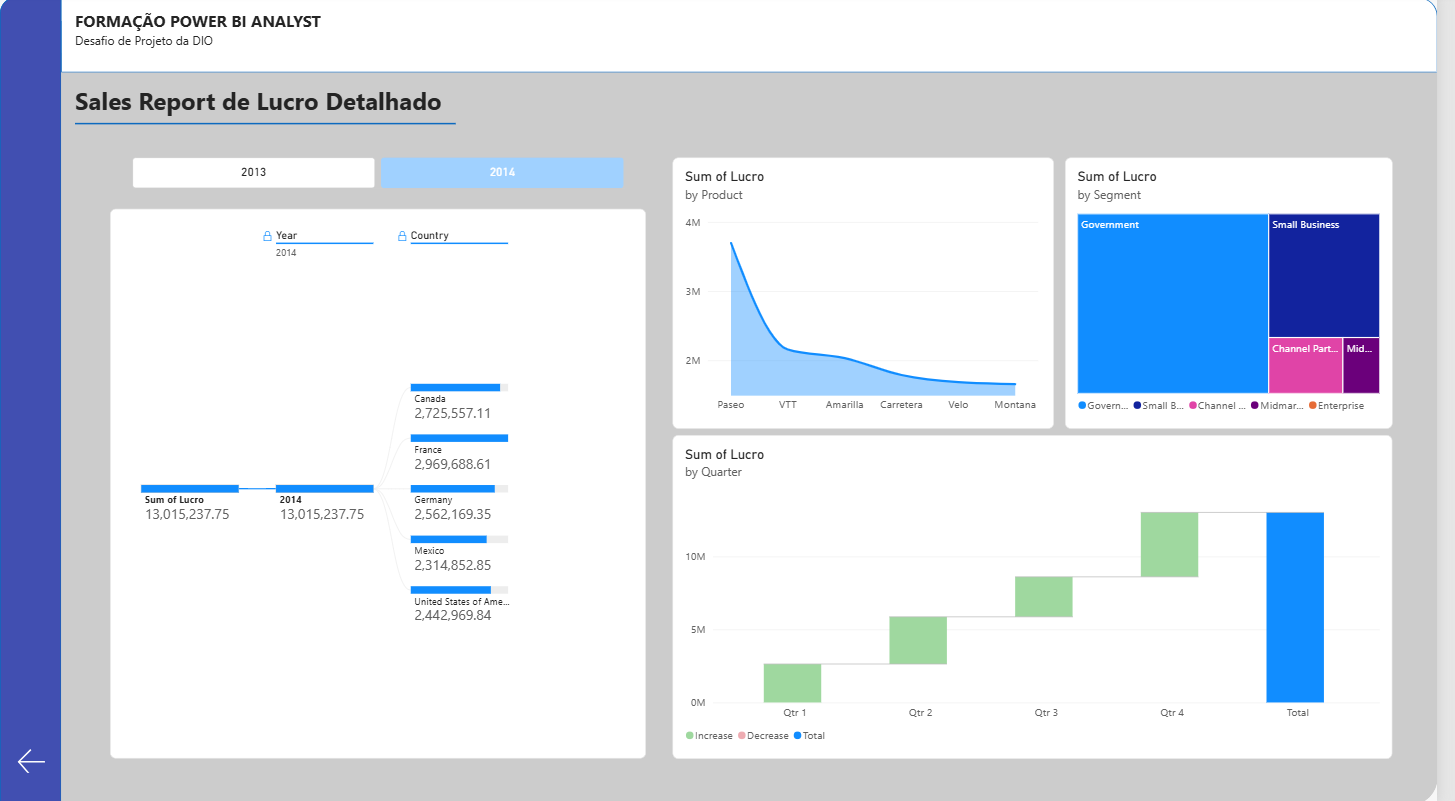

The dashboard page shown, as its layout file describes it:
{"tool":"powerbi","page":{"name":"Page 2","canvas":[1920,1080],"ordinal":1},"visuals":[{"type":"shape","box":[0,76.8,1920.2,1005.2],"z":0},{"type":"shape","box":[0,3.3,81.8,1077],"z":1000},{"type":"shape","box":[81.8,3.3,1838.4,100.2],"z":2000},{"type":"textbox","box":[100.2,20,347.3,68.5],"z":3000},{"type":"shape","box":[100.9,156.3,508.6,29.7],"z":4000},{"type":"textbox","box":[100.9,118.7,508.6,49.5],"z":5000},{"type":"actionButton","box":[2,993.5,81.1,53.4],"z":6000},{"type":"waterfallChart","fields":{"Category":["financials.Date.Variation.Date Hierarchy.Quarter"],"Y":["Sum(financials.Lucro)"]},"box":[898.3,587.8,961.8,432.5],"z":7000},{"type":"areaChart","fields":{"Category":["financials.Product"],"Y":["Sum(financials.Lucro)"]},"box":[898.3,217.1,509.3,362.3],"z":8000},{"type":"treemap","fields":{"Group":["financials.Segment"],"Values":["Sum(financials.Lucro)"]},"box":[1422.6,217.1,437.5,362.3],"z":9000},{"type":"decompositionTreeVisual","fields":{"Analyze":["Sum(financials.Lucro)"],"ExplainBy":["financials.Date.Variation.Date Hierarchy.Year","financials.Country"]},"box":[146.9,285.5,716.3,734.7],"z":10000},{"type":"advancedSlicerVisual","fields":{"Values":["financials.Date.Variation.Date Hierarchy.Year"]},"box":[177,217.1,657.9,41.7],"z":11000}]}

Visuals, with their boxes on the page's 1920x1080 design canvas (x1, y1, x2, y2). These are canvas units, not pixel positions in the 1455x801 screenshot, which may show the page scaled, cropped or inside an application window:
shape: (x1=0, y1=77, x2=1920, y2=1082)
shape: (x1=0, y1=3, x2=82, y2=1080)
shape: (x1=82, y1=3, x2=1920, y2=104)
textbox: (x1=100, y1=20, x2=448, y2=88)
shape: (x1=101, y1=156, x2=610, y2=186)
textbox: (x1=101, y1=119, x2=610, y2=168)
actionButton: (x1=2, y1=994, x2=83, y2=1047)
waterfallChart - financials.Date.Variation.Date Hierarchy.Quarter x Sum(financials.Lucro): (x1=898, y1=588, x2=1860, y2=1020)
areaChart - financials.Product x Sum(financials.Lucro): (x1=898, y1=217, x2=1408, y2=579)
treemap - financials.Segment x Sum(financials.Lucro): (x1=1423, y1=217, x2=1860, y2=579)
decompositionTreeVisual - Sum(financials.Lucro) x financials.Date.Variation.Date Hierarchy.Year: (x1=147, y1=286, x2=863, y2=1020)
advancedSlicerVisual - financials.Date.Variation.Date Hierarchy.Year: (x1=177, y1=217, x2=835, y2=259)
